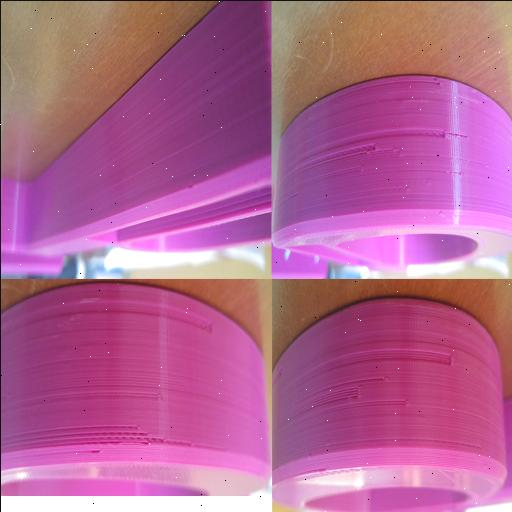cracks: (10, 290, 220, 362), (308, 115, 472, 176), (306, 330, 454, 384), (46, 418, 191, 450)
